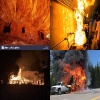fire: (0, 0, 48, 29), (72, 0, 96, 45), (4, 66, 48, 87), (61, 61, 86, 92), (45, 32, 50, 40)
